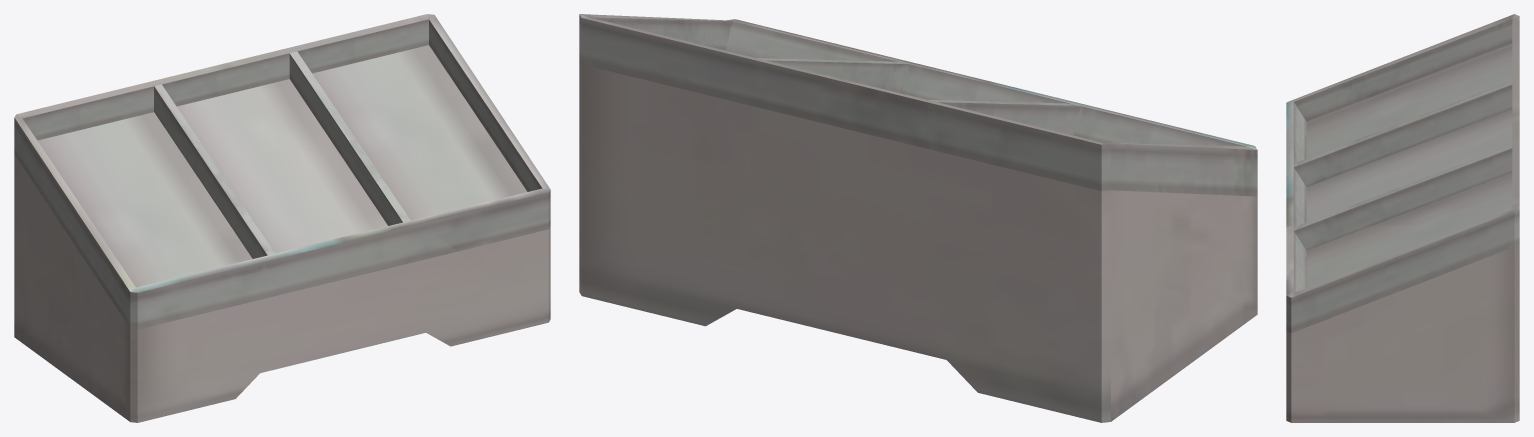
Rendered from ss-freezer-island.lod1.glb.
The picture shows the model from 3 angles, left to right: view 1: azimuth 30°, elevation 25°; view 2: azimuth 150°, elevation 25°; view 3: azimuth 270°, elevation 25°; orthographic projection. The views are drawn at different scales.
Visible parts, largest first — view 1: general_store_furniture_fresh_food_display.001_general_store; view 2: general_store_furniture_fresh_food_display.001_general_store; view 3: general_store_furniture_fresh_food_display.001_general_store.
Part boxes in pixels (x1,y1,x2,y2): general_store_furniture_fresh_food_display.001_general_store: (14,14,550,422); general_store_furniture_fresh_food_display.001_general_store: (579,14,1257,422); general_store_furniture_fresh_food_display.001_general_store: (1286,14,1519,422).
Bounding box in the file's own units: 2.15 × 1.08 × 1.08.
Materials: 1 (1 with a texture image).
